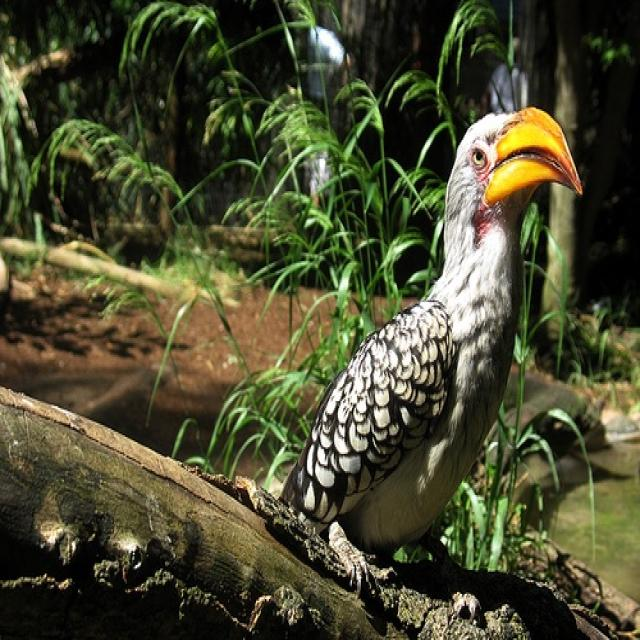bird: (280, 104, 585, 591)
